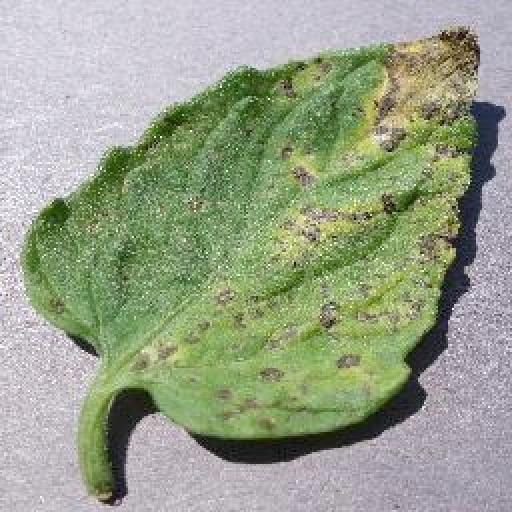disease_tomato: (28, 29, 482, 439)
